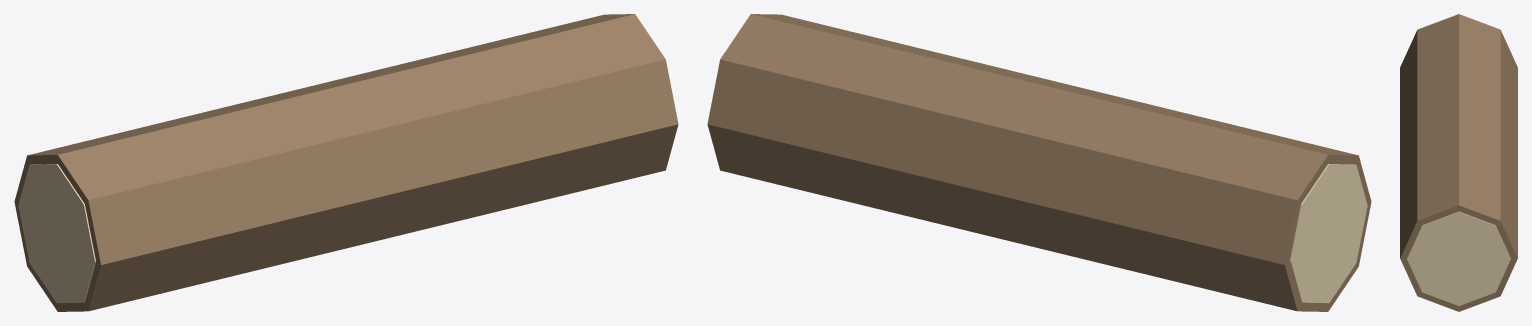
Rendered from tora.glb.
3 views of the same model, side by side, from view 1: azimuth 30°, elevation 25°; view 2: azimuth 150°, elevation 25°; view 3: azimuth 270°, elevation 25° (orthographic). The views are drawn at different scales.
Parts seen in each view (by area): view 1: tora; view 2: tora; view 3: tora.
Part boxes in pixels (x1=…): tora: x1=14, y1=14, x2=678, y2=311; tora: x1=707, y1=14, x2=1371, y2=311; tora: x1=1400, y1=14, x2=1517, y2=311.
Bounding box in the file's own units: 1 × 0.26 × 0.26.
